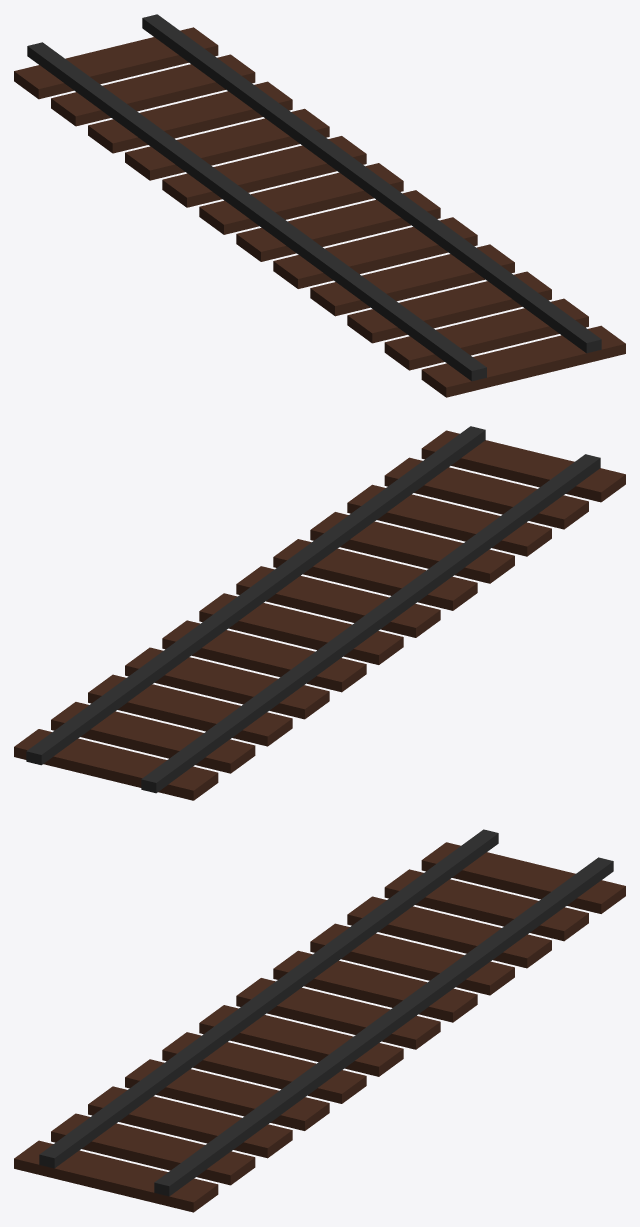
File: tracks.fbx
The picture shows the model from 3 angles, top to bottom: view 1: azimuth 30°, elevation 25°; view 2: azimuth 150°, elevation 25°; view 3: azimuth 330°, elevation 25°; orthographic projection.
Parts seen in each view (by area): view 1: Tracks; view 2: Tracks; view 3: Tracks.
Boxes of the visible parts, left/top/right/bottom form: Tracks: left=14, top=14, right=625, bottom=397; Tracks: left=14, top=426, right=625, bottom=800; Tracks: left=14, top=829, right=625, bottom=1212.
Size of the model in its own units: 234 by 25.42 by 1004.
